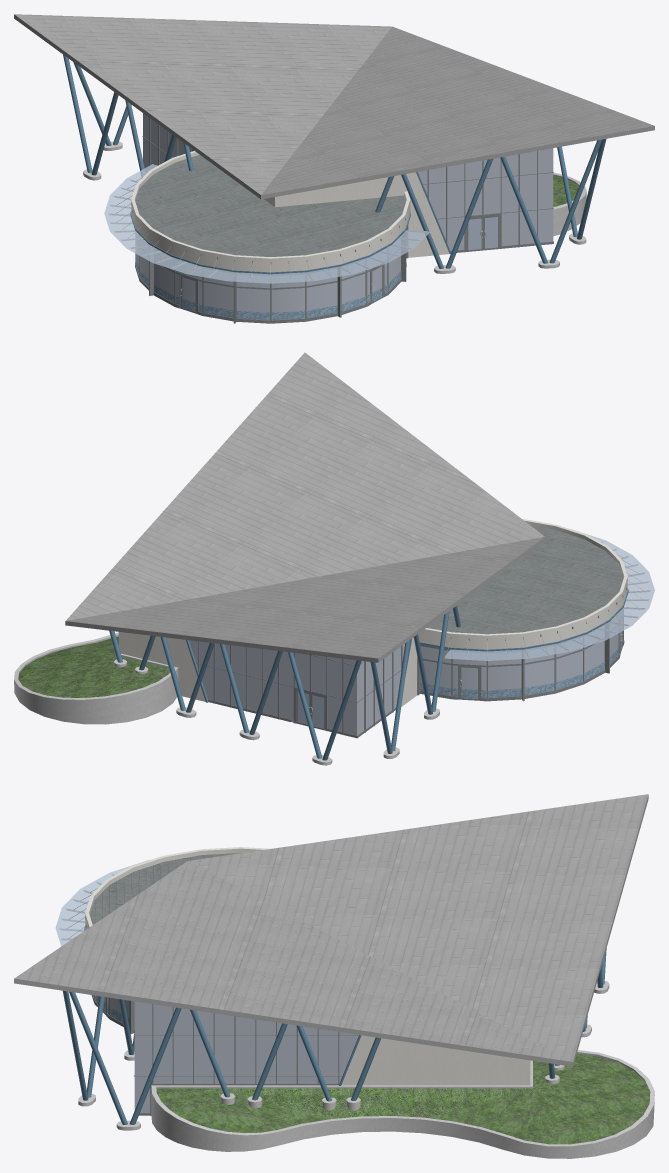
The model's file is aquarium.dae.
3 views of the same model, one above another, from view 1: azimuth 30°, elevation 25°; view 2: azimuth 150°, elevation 25°; view 3: azimuth 270°, elevation 25° (orthographic). The views are drawn at different scales.
Parts seen in each view (by area): view 1: group_0 (×2), group_101 (×2), group_116, group_102, group_103, group_66, group_24, group_42, group_20 (×2), group_64, group_100, pillar1_38 (+10 smaller); view 2: group_0 (×2), group_101 (×2), group_116, group_20 (×2), group_102, group_69, group_81, group_104, group_79, group_103, group_90, pillar1_29 (+1 smaller); view 3: group_0 (×2), group_20 (×2), group_116, group_104, group_101 (×2), group_102, pillar1_20, pillar1_19, pillar1_38, pillar1_43, group_115, pillar1_37.
Part boxes in pixels (<box>): group_0 (×2): <box>14,14,654,199</box>; group_101 (×2): <box>131,151,410,272</box>; group_116: <box>143,113,553,250</box>; group_102: <box>104,164,430,283</box>; group_103: <box>264,172,449,257</box>; group_66: <box>236,269,337,312</box>; group_24: <box>154,248,233,310</box>; group_42: <box>341,236,400,303</box>; group_20 (×2): <box>553,172,586,236</box>; group_64: <box>236,305,337,320</box>; group_100: <box>130,211,410,274</box>; pillar1_38: <box>549,139,602,263</box>; group_0 (×2): <box>65,352,544,662</box>; group_101 (×2): <box>418,519,627,649</box>; group_116: <box>189,640,405,735</box>; group_20 (×2): <box>14,632,178,724</box>; group_102: <box>444,529,654,660</box>; group_69: <box>420,646,521,690</box>; group_81: <box>524,626,604,687</box>; group_104: <box>118,632,205,701</box>; group_79: <box>420,683,521,698</box>; group_103: <box>401,637,417,706</box>; group_90: <box>524,662,604,695</box>; pillar1_29: <box>287,652,322,758</box>; group_0 (×2): <box>14,794,648,1066</box>; group_20 (×2): <box>151,1050,654,1158</box>; group_116: <box>134,1001,358,1112</box>; group_104: <box>341,1035,530,1085</box>; group_101 (×2): <box>85,847,271,929</box>; group_102: <box>55,859,150,946</box>; pillar1_20: <box>69,991,127,1124</box>; pillar1_19: <box>129,1007,181,1124</box>; pillar1_38: <box>62,990,88,1100</box>; pillar1_43: <box>190,1009,230,1097</box>; group_115: <box>150,1083,339,1115</box>; pillar1_37: <box>86,996,104,1097</box>.
Bounding box in the file's own units: 1234 × 1336 × 375.
15 materials, 12 textured.
